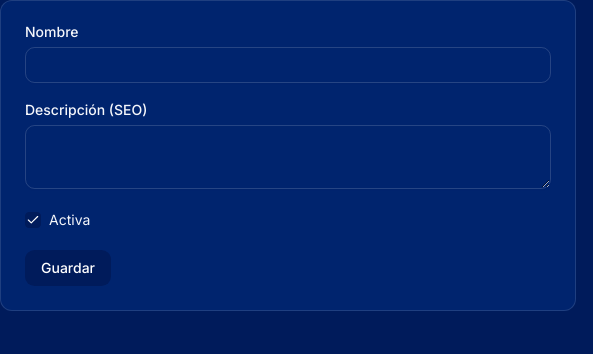
Test: CategoriaForm › muestra vista previa del slug mientras se escribe
Type "Electrodomésticos" into the field labelled "Nombre" at x=288, y=65, box [25,47,551,83]
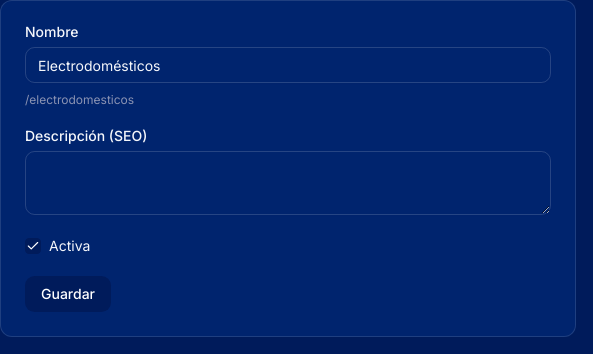
Expected: the text "/electrodomesticos" is shown, [25,92,134,107]
